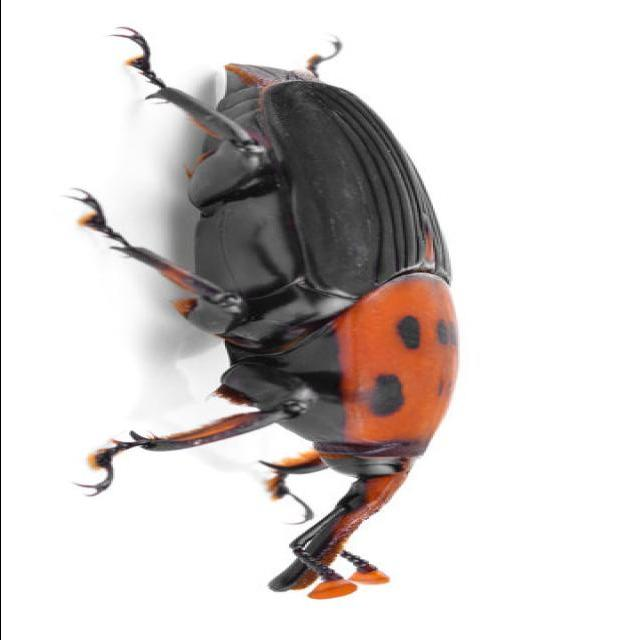Red-palm-weevil: (136, 46, 474, 598)
